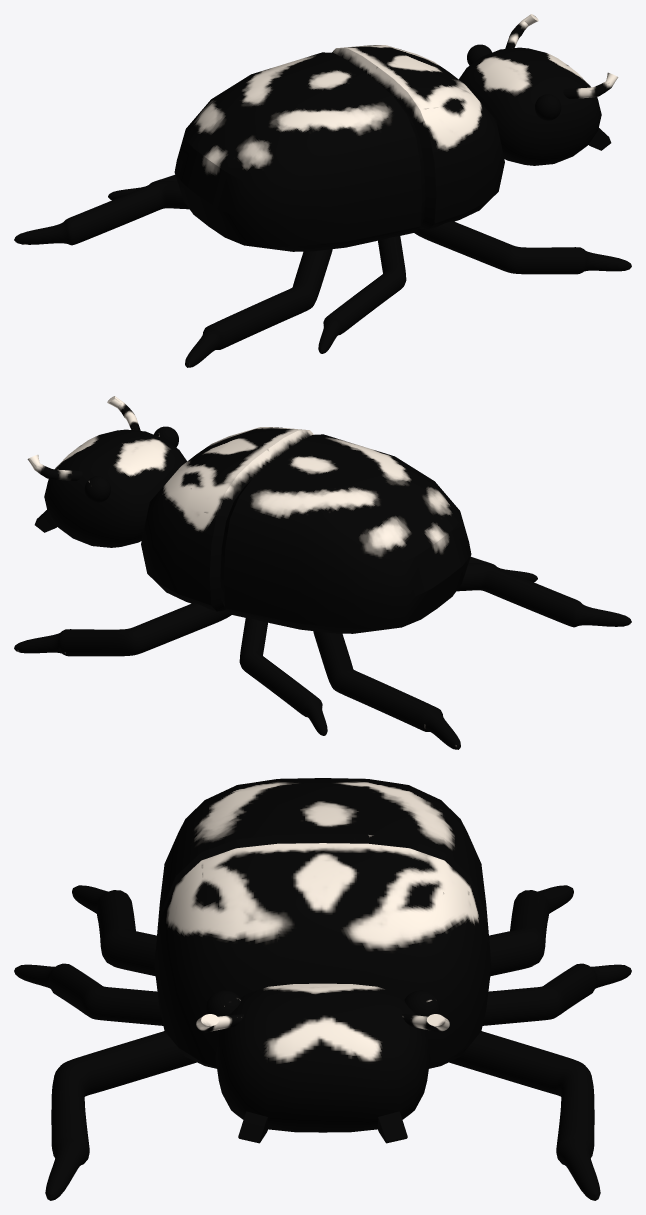
File: beetleTexture.obj
3 views of the same model, one above another, from view 1: azimuth 30°, elevation 25°; view 2: azimuth 150°, elevation 25°; view 3: azimuth 270°, elevation 25° (orthographic). The views are drawn at different scales.
Parts seen in each view (by area): view 1: Cylinder; view 2: Cylinder; view 3: Cylinder.
Boxes of the visible parts, left/top/right/bottom form: Cylinder: left=14, top=14, right=631, bottom=367; Cylinder: left=14, top=396, right=631, bottom=749; Cylinder: left=14, top=778, right=631, bottom=1200.
Size of the model in its own units: 6.94 by 2.35 by 5.29.
1 material, 1 textured.
